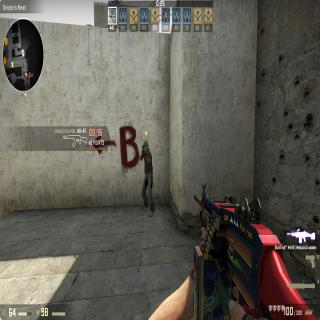T-Body: (140, 139, 154, 215)
T-Head: (143, 140, 149, 152)
